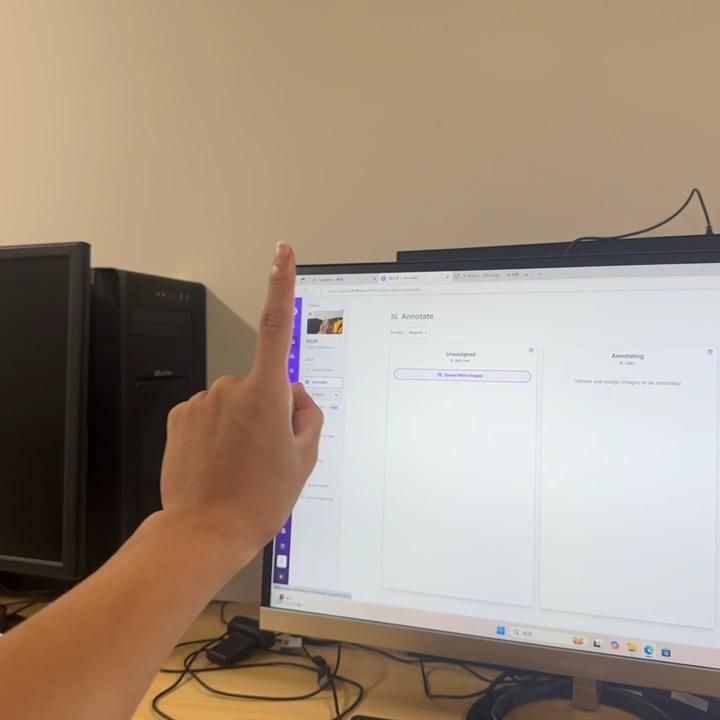without_gloves: (108, 191, 396, 586)
